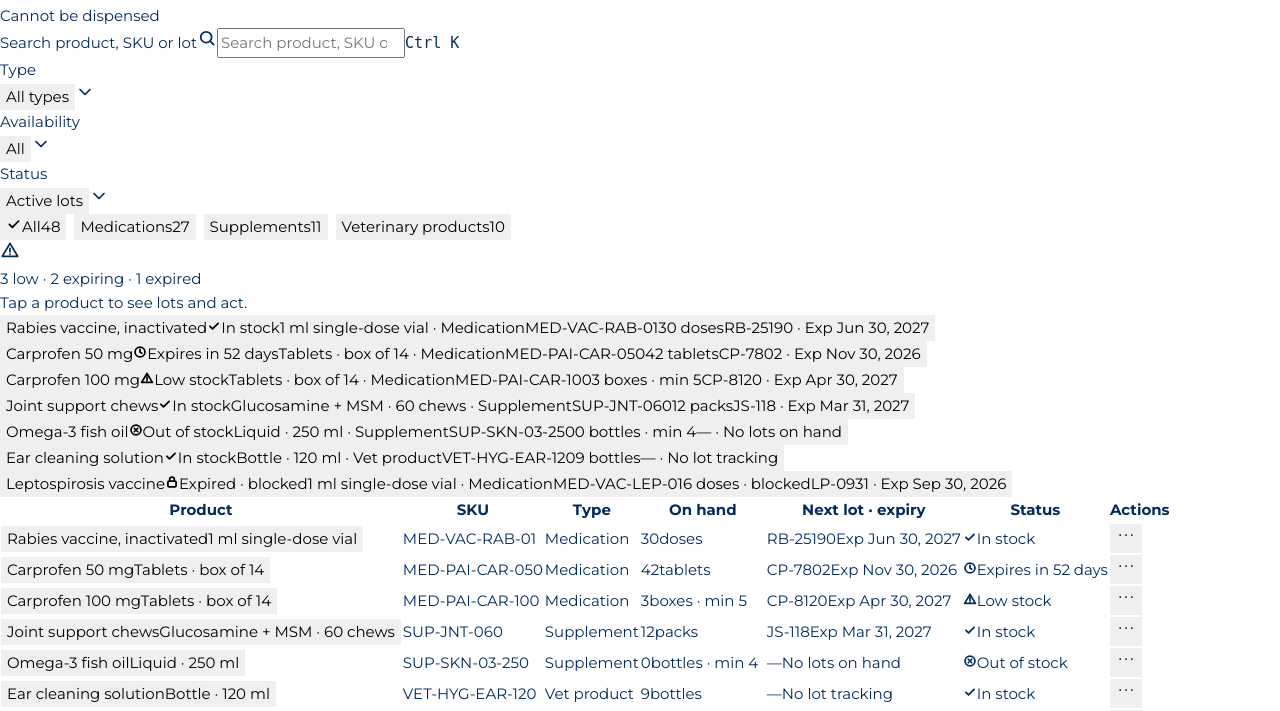
Test case: StaffInventory › dispenses from the panel of a product
(page scrolled)
Click the button with aria-label "Open Carprofen 50 mg" at point(463, 354), box [0,341,927,367]
(page scrolled)
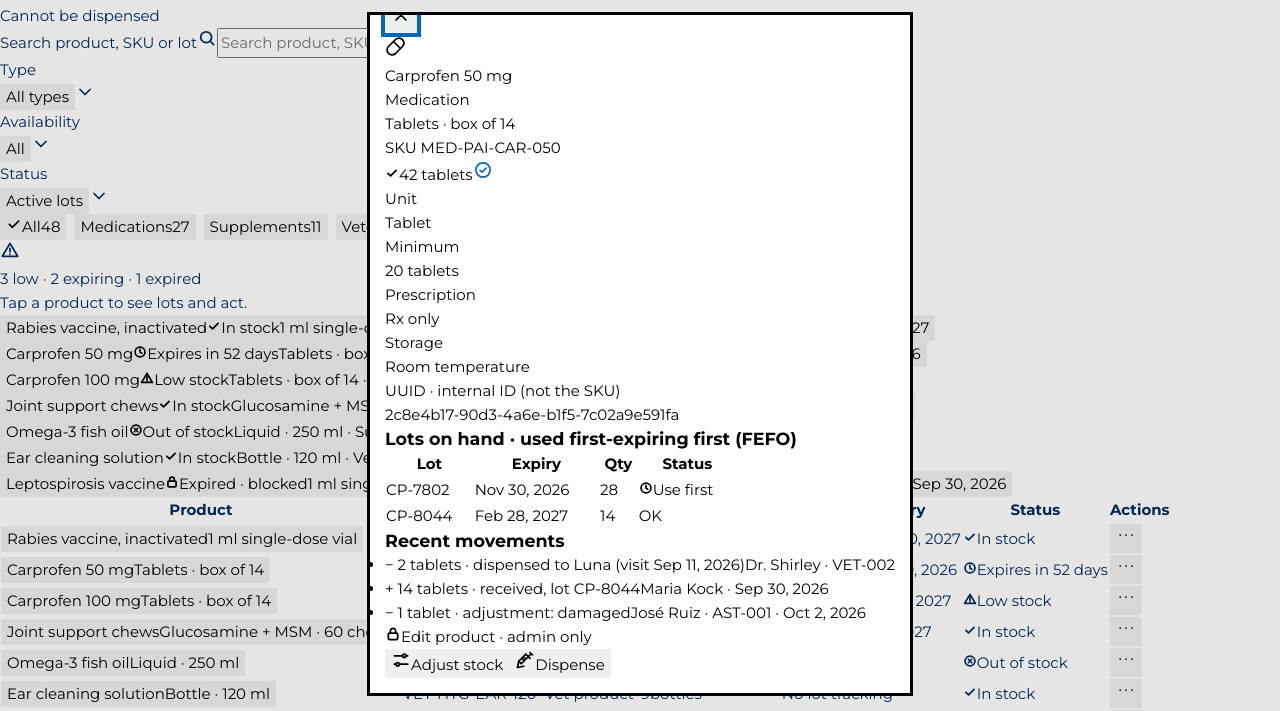
Click the button "Dispense" at point(560, 664), box [509,649,611,678]
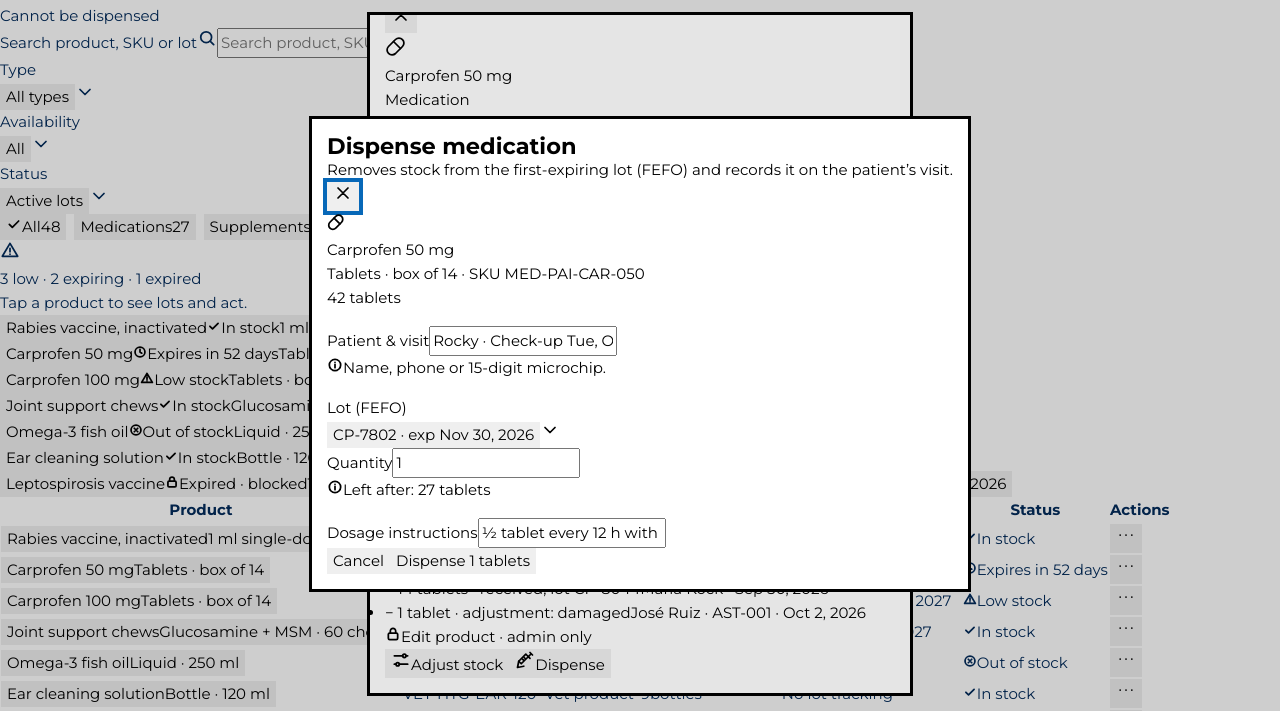
Expected: the dialog "Dispense medication" is shown, [309,116,971,592]
